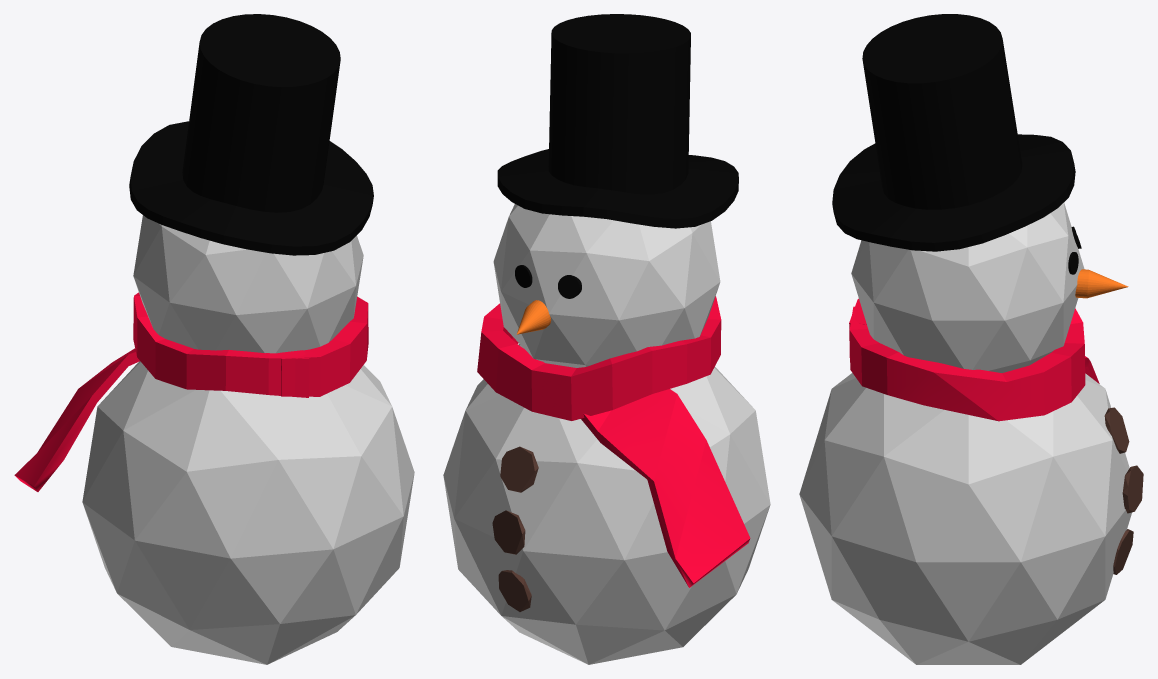
File: snowman.fbx
3 views of the same model, side by side, from view 1: azimuth 30°, elevation 25°; view 2: azimuth 150°, elevation 25°; view 3: azimuth 270°, elevation 25° (orthographic).
Parts seen in each view (by area): view 1: buttons, Hat, scarf; view 2: buttons, Hat, scarf, eyes, nose; view 3: buttons, Hat, scarf, nose.
Part boxes in pixels (box(x1,y1,x2,y2)): buttons: box(82, 215, 414, 664); Hat: box(129, 14, 373, 255); scarf: box(14, 292, 368, 491); buttons: box(443, 204, 770, 664); Hat: box(497, 14, 738, 228); scarf: box(477, 296, 750, 587); eyes: box(515, 265, 581, 298); nose: box(516, 300, 551, 334); buttons: box(799, 202, 1143, 664); Hat: box(832, 14, 1075, 251); scarf: box(849, 298, 1099, 421); nose: box(1075, 269, 1128, 298).
Size of the model in its own units: 317 by 591 by 296.
